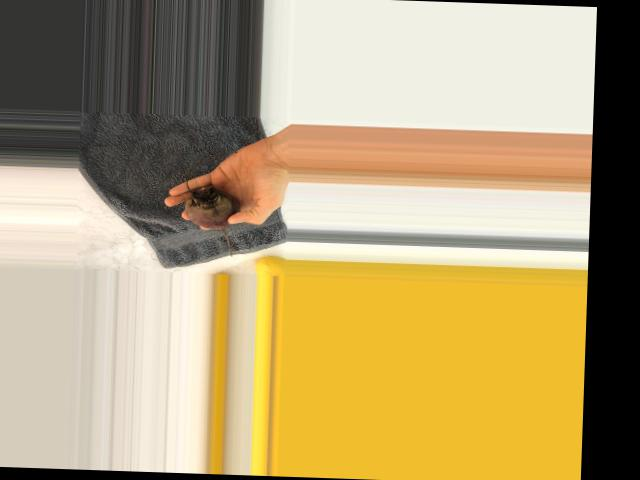beet: (183, 184, 240, 256)
